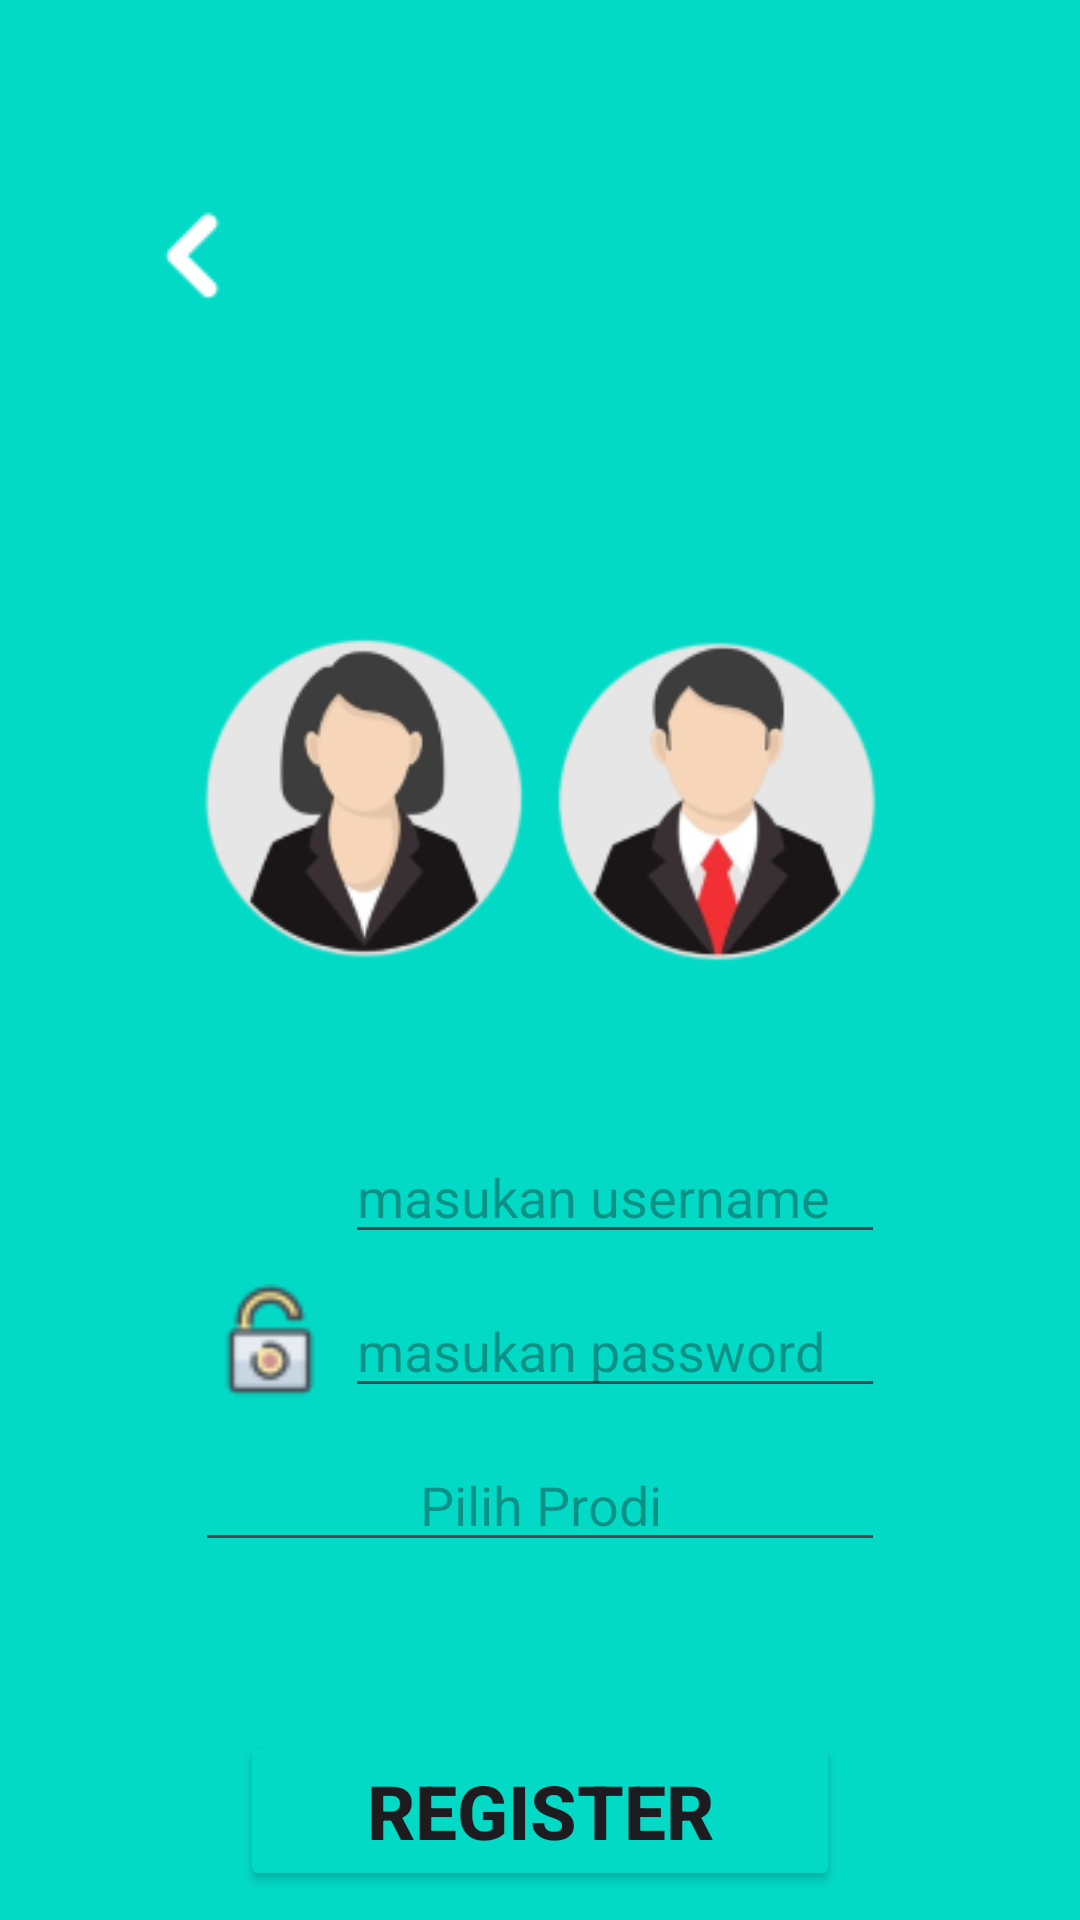

Named icons in this screenshot (1080px x 1920px) and their bounding boxes, (x1, y1, x2, y2):
icback: (165, 212, 220, 299)
lock: (226, 1284, 314, 1395)
